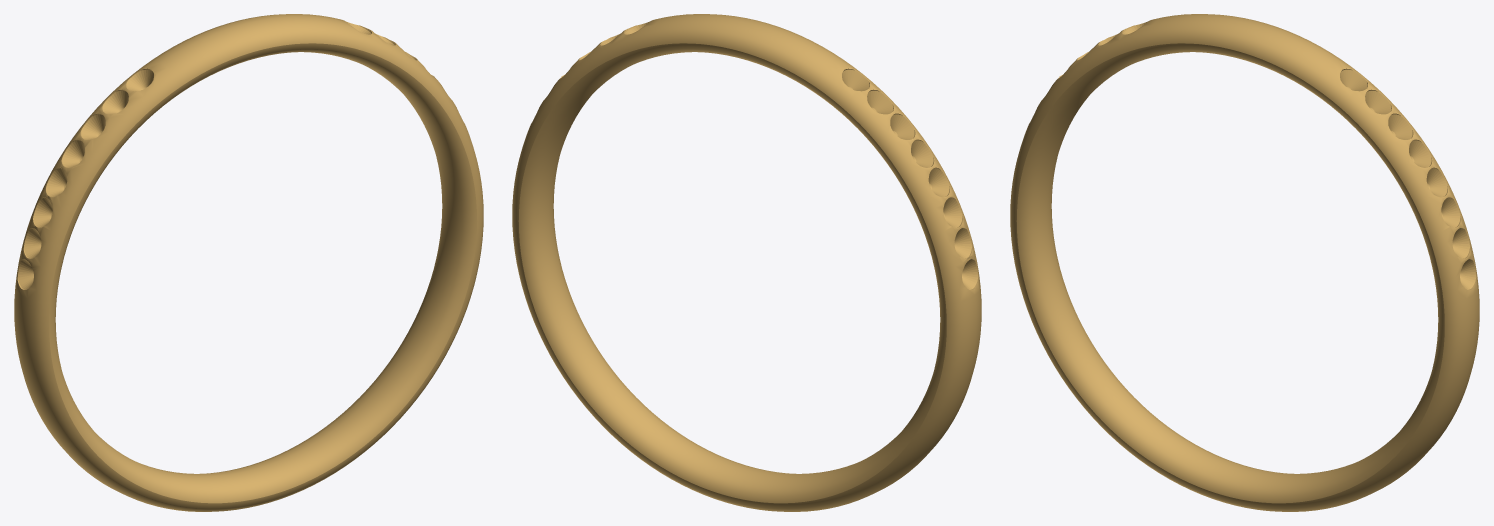
The model's file is rounded-micro-pave.glb.
The picture shows the model from 3 angles, left to right: view 1: azimuth 30°, elevation 25°; view 2: azimuth 150°, elevation 25°; view 3: azimuth 330°, elevation 25°; orthographic projection.
Visible parts, largest first — view 1: Band; view 2: Band; view 3: Band.
Part boxes in pixels (x1,y1,x2,y2): Band: (14,14,483,511); Band: (512,14,981,511); Band: (1010,14,1479,511).
Size of the model in its own units: 19.6 by 19.6 by 2.1.
